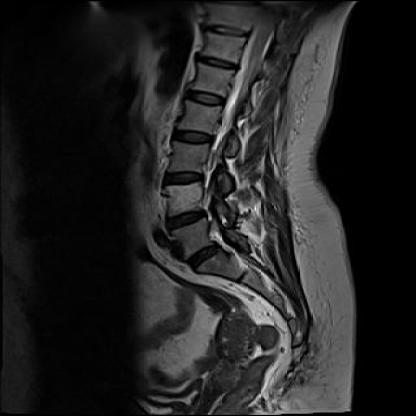Disc Relaxationrotation: (160, 208, 215, 233)
